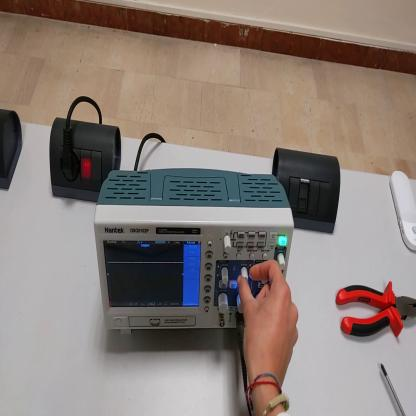hand: (238, 260, 299, 390)
oscilloscope: (93, 168, 294, 338)
pliers: (337, 279, 415, 349)
screwdriver-: (382, 363, 405, 414)
socket: (47, 119, 123, 202), (1, 107, 25, 195)
